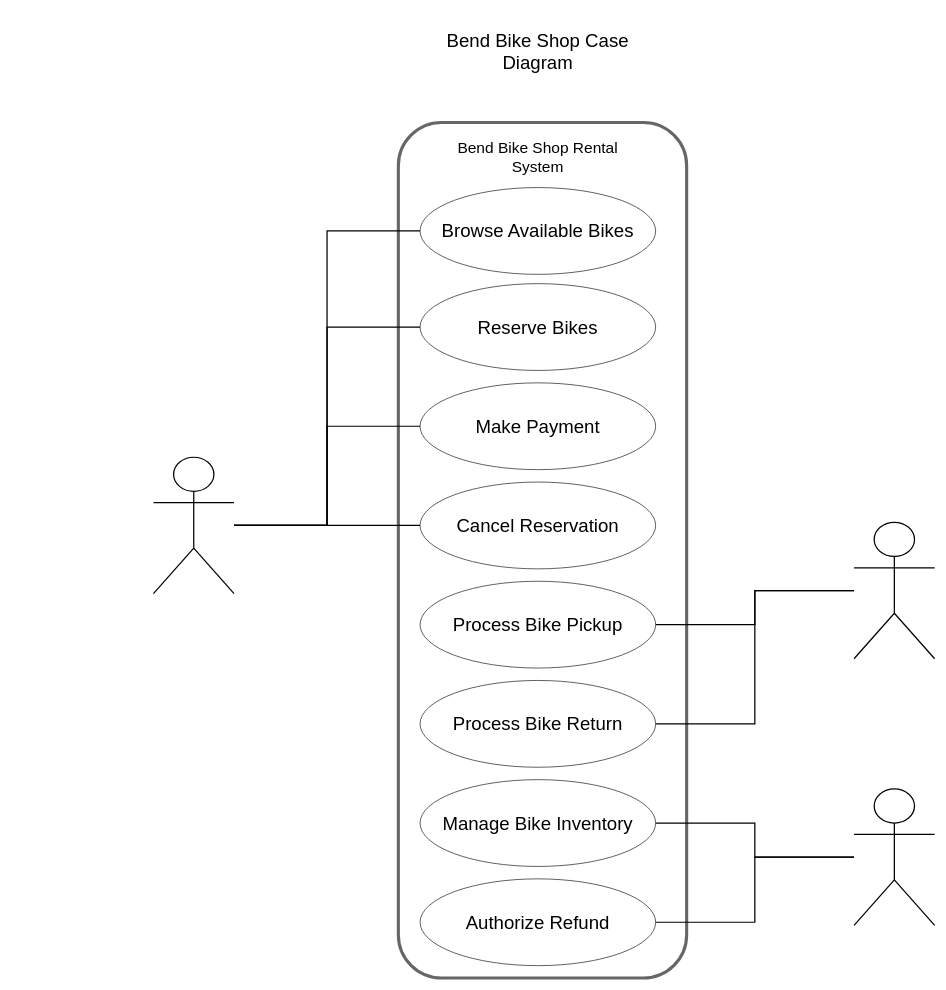
Image size: 946x990. Some labels were removed from this diagram. Here are the shapes that lost their labels. From the top down, the box of each, then its label:
(153, 456, 234, 594): Customer
(853, 521, 935, 659): Employee
(853, 788, 935, 926): Manager
